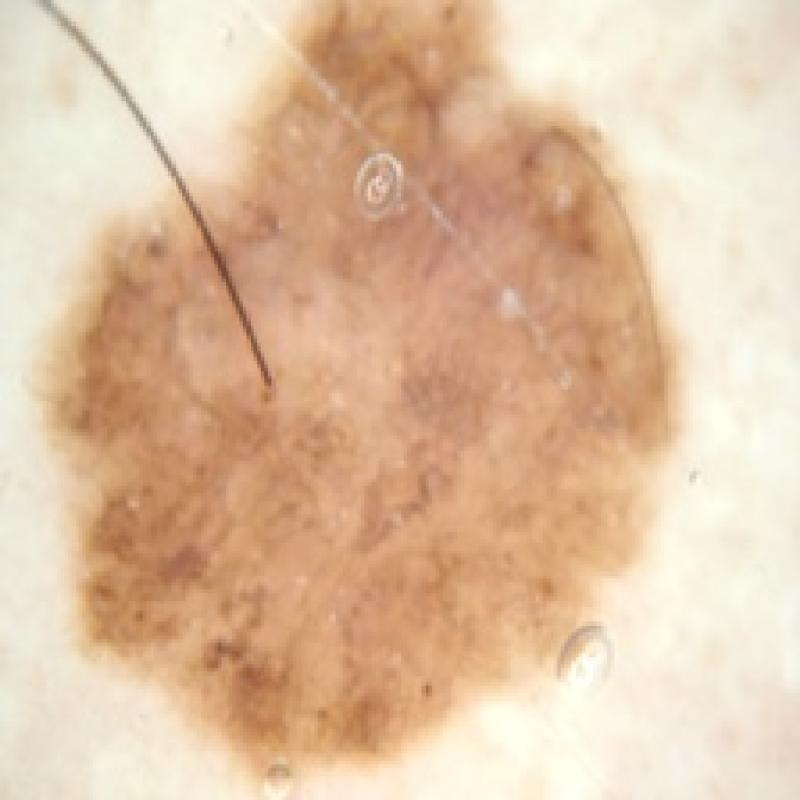malignant: (44, 5, 737, 787)
